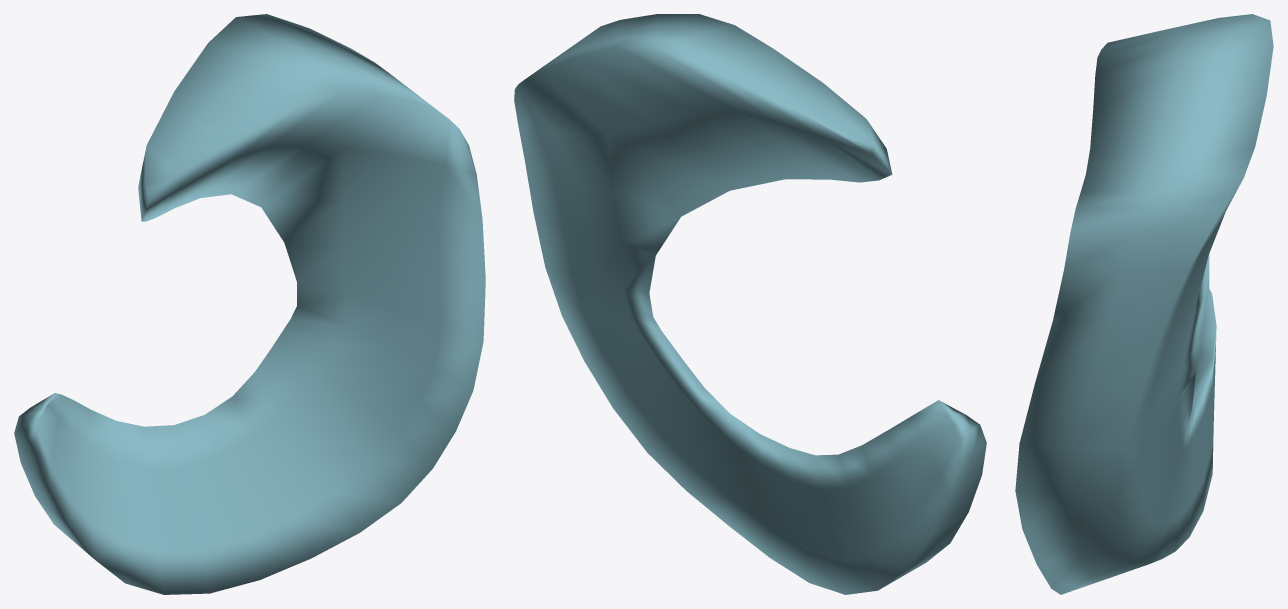
The picture shows the model from 3 angles, left to right: view 1: azimuth 30°, elevation 25°; view 2: azimuth 150°, elevation 25°; view 3: azimuth 270°, elevation 25°; orthographic projection. The views are drawn at different scales.
Parts seen in each view (by area): view 1: 左侧外侧半月板; view 2: 左侧外侧半月板; view 3: 左侧外侧半月板.
Part boxes in pixels (left/top/right/bottom): 左侧外侧半月板: left=14, top=14, right=485, bottom=594; 左侧外侧半月板: left=514, top=14, right=986, bottom=594; 左侧外侧半月板: left=1015, top=14, right=1273, bottom=594.
Size of the model in its own units: 0.0498 by 0.0571 by 0.0226.
